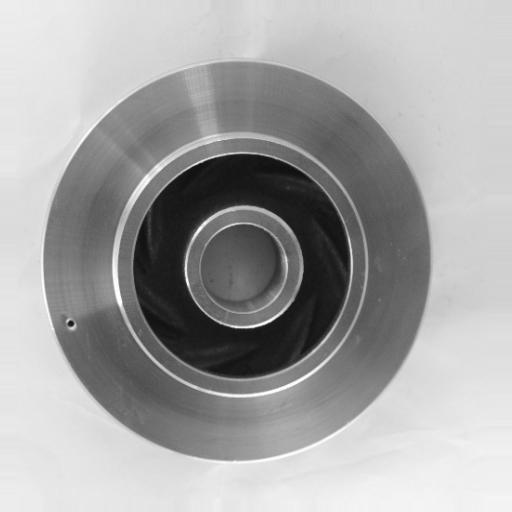pit: (55, 306, 90, 339)
unpolished_casting: (43, 58, 434, 465)
